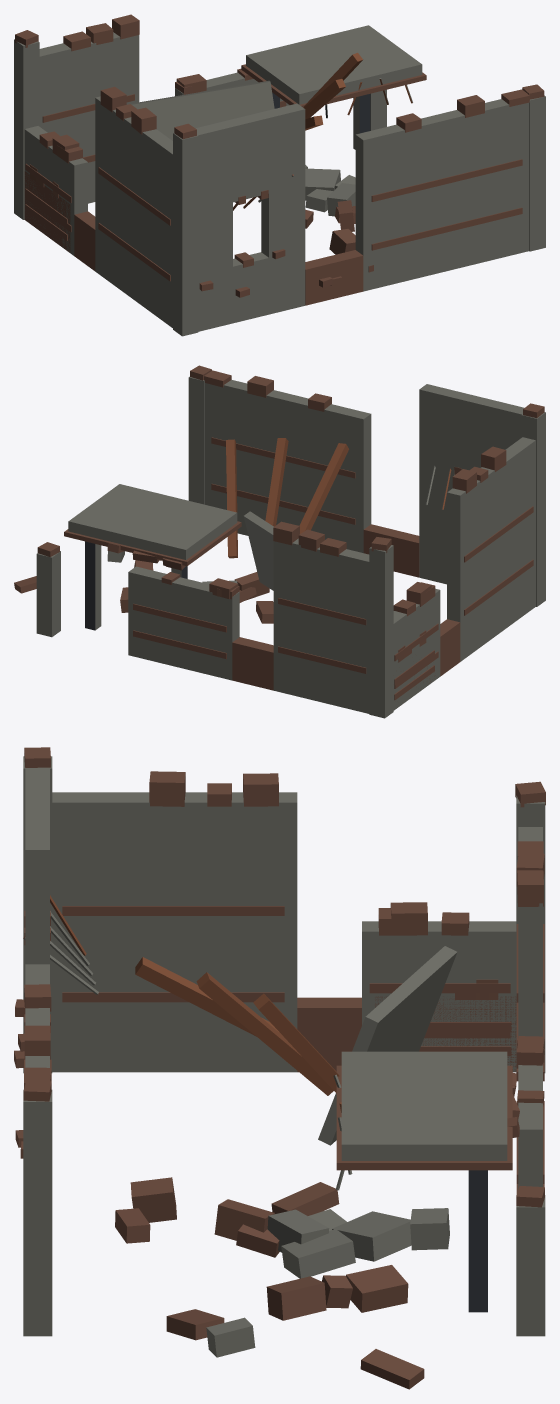
The model's file is ruin_b.glb.
3 renders of one model, top to bottom at view 1: azimuth 30°, elevation 25°; view 2: azimuth 150°, elevation 25°; view 3: azimuth 270°, elevation 25°, orthographic. The views are drawn at different scales.
Parts seen in each view (by area): view 1: ruin_b; view 2: ruin_b; view 3: ruin_b.
Boxes of the visible parts, bbox=[...] form: ruin_b: bbox=[14, 14, 545, 336]; ruin_b: bbox=[14, 365, 545, 718]; ruin_b: bbox=[14, 747, 545, 1389].
Bounding box in the file's own units: 11.95 × 5.42 × 8.22.
